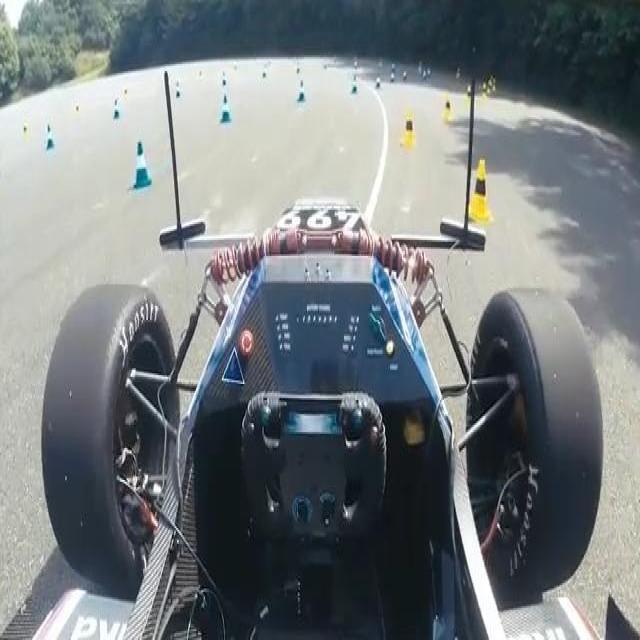blue_cone: (130, 134, 158, 190), (222, 91, 236, 143), (293, 76, 314, 107), (348, 76, 362, 97), (377, 74, 386, 94)
yellow_cone: (469, 162, 495, 214), (398, 110, 418, 156), (466, 77, 482, 109), (443, 92, 456, 126)
